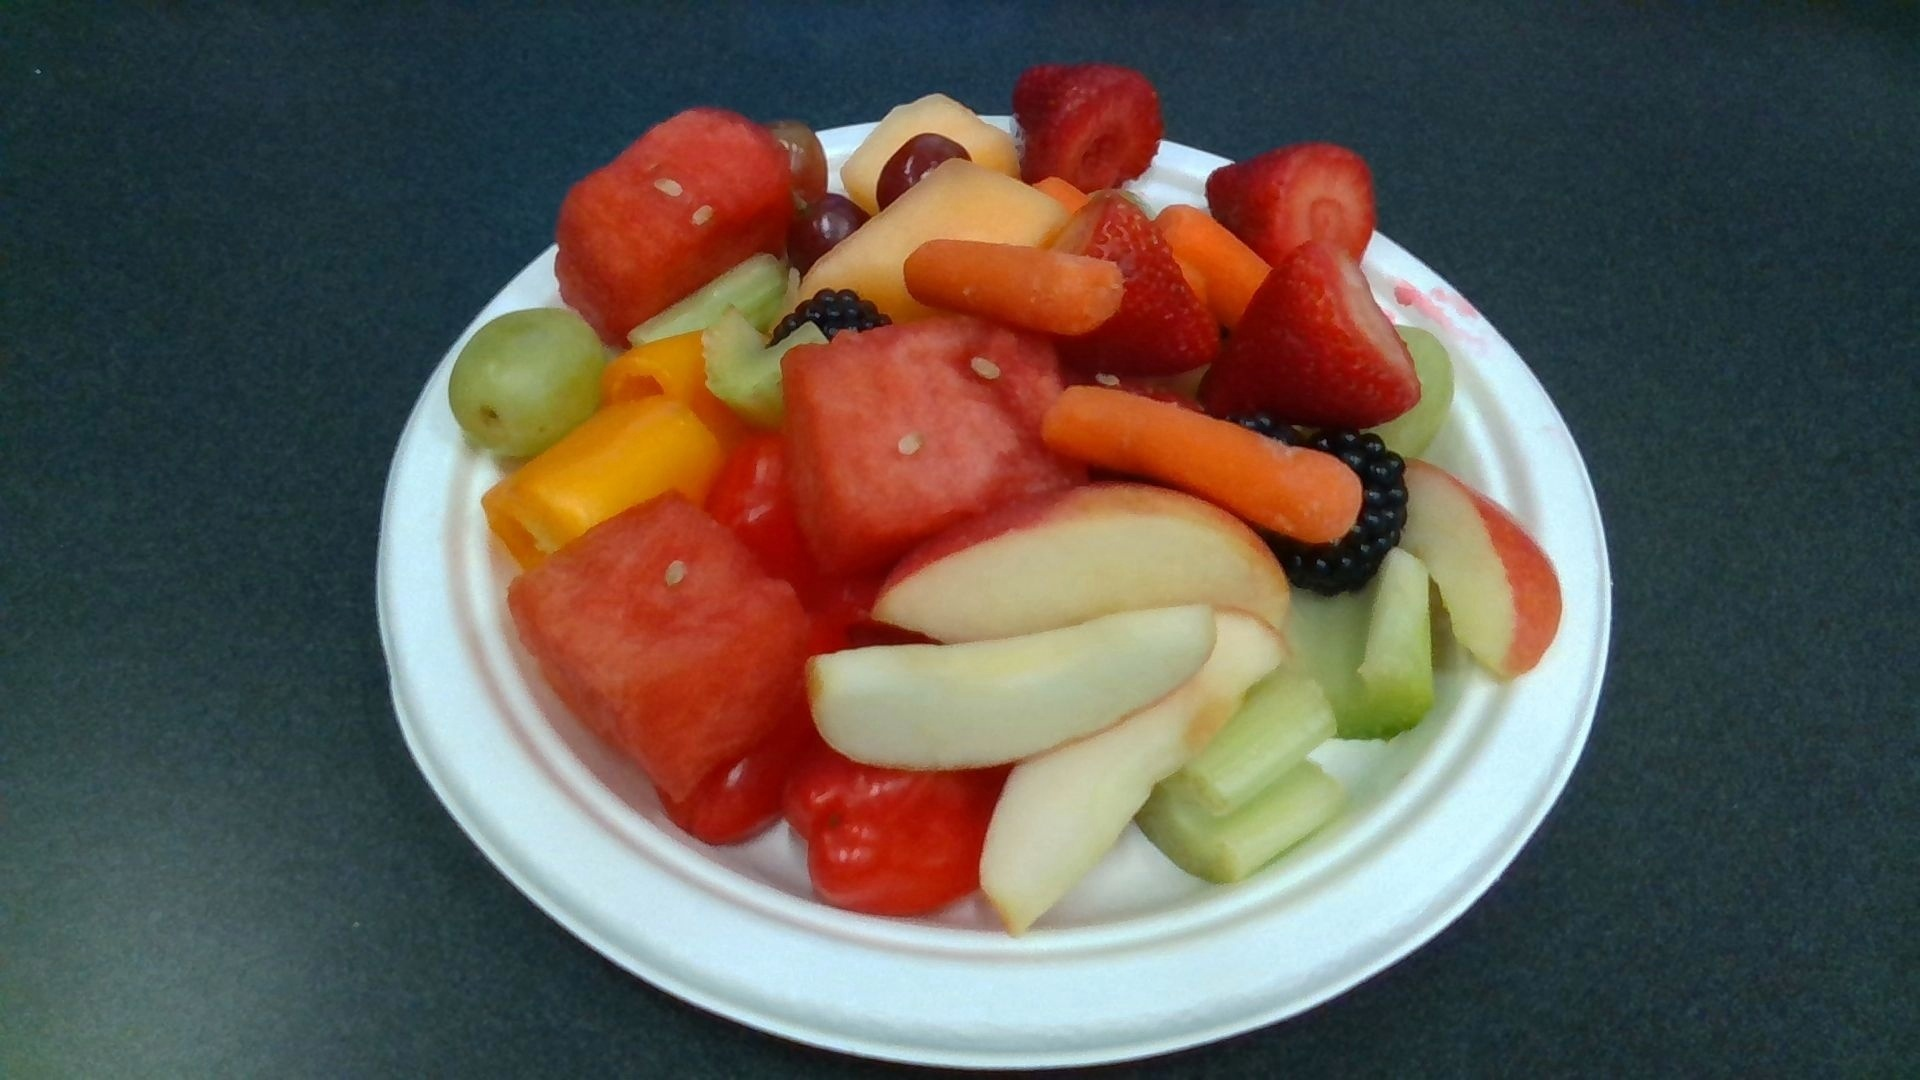apple: (977, 608, 1288, 936), (808, 605, 1215, 770), (872, 483, 1290, 641), (1394, 460, 1560, 676)
bell_pepper: (483, 398, 724, 568), (787, 752, 1011, 913)
cantalope: (793, 161, 1064, 324)
carrot: (1039, 385, 1360, 549), (905, 241, 1122, 334)
celery: (1131, 666, 1335, 881), (1275, 550, 1432, 740)
grape_green: (450, 310, 603, 451)
melon: (510, 491, 804, 798), (785, 313, 1087, 560), (559, 108, 793, 345)
strawberry: (1193, 243, 1419, 411), (1044, 193, 1220, 375), (1205, 142, 1377, 268), (1011, 61, 1160, 185)
